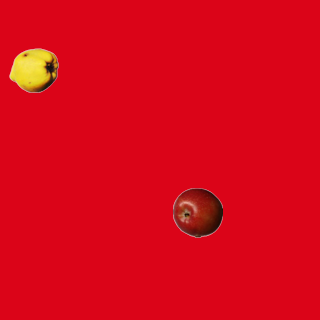Apple Braeburn: (172, 187, 222, 237)
Quince: (8, 45, 58, 95)
